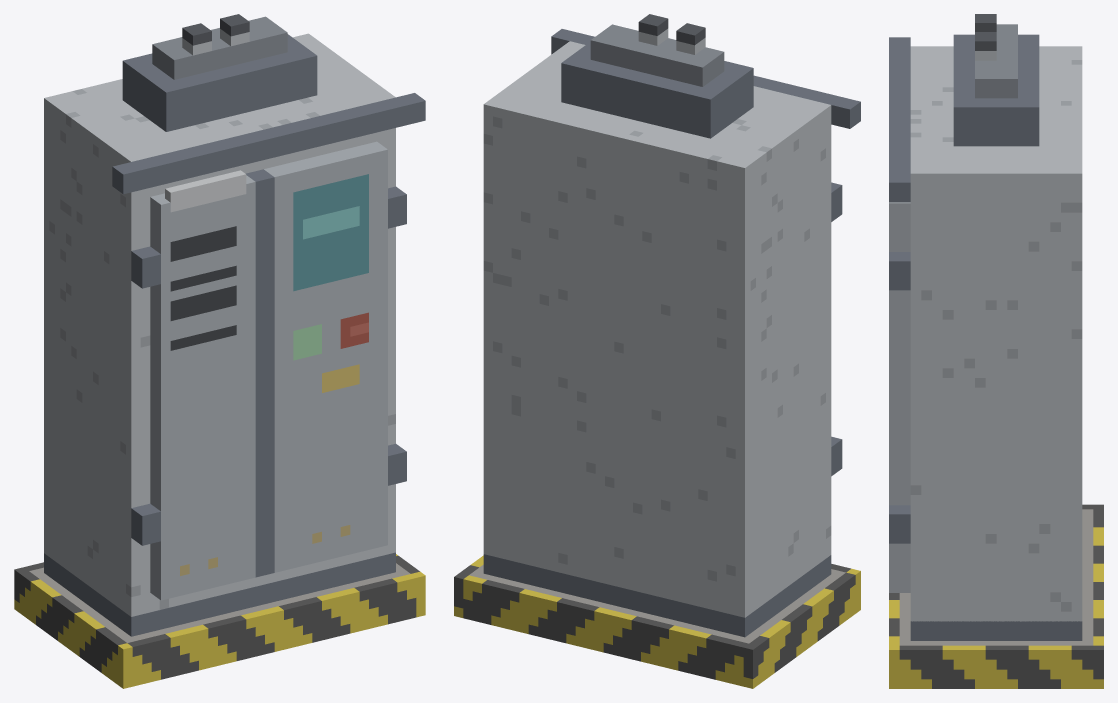
File: control_cabinet.glb
3 views of the same model, side by side, from view 1: azimuth 30°, elevation 25°; view 2: azimuth 150°, elevation 25°; view 3: azimuth 270°, elevation 25° (orthographic).
Parts seen in each view (by area): view 1: control_cabinet; view 2: control_cabinet; view 3: control_cabinet.
Part boxes in pixels (x1,y1,x2,y2): control_cabinet: (14,14,425,688); control_cabinet: (454,14,860,688); control_cabinet: (889,14,1103,688).
Bounding box in the file's own units: 1 × 1.88 × 0.625.
